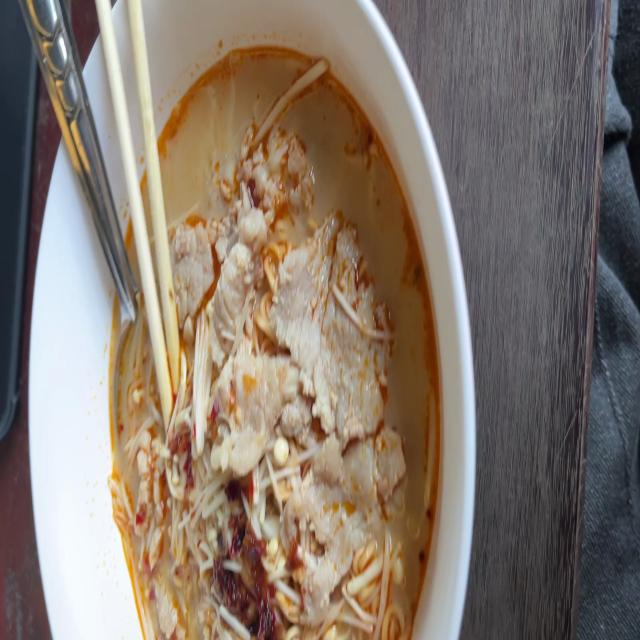noodle: (95, 35, 447, 640)
